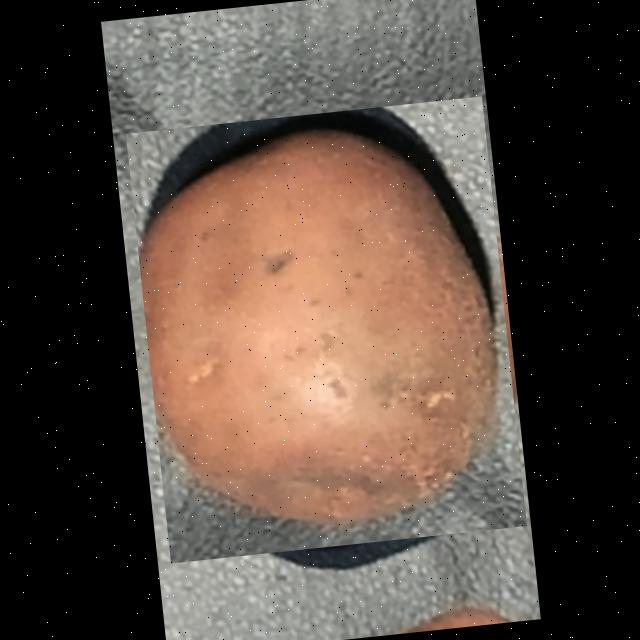Diseased-fungal potato: (126, 96, 526, 563)
